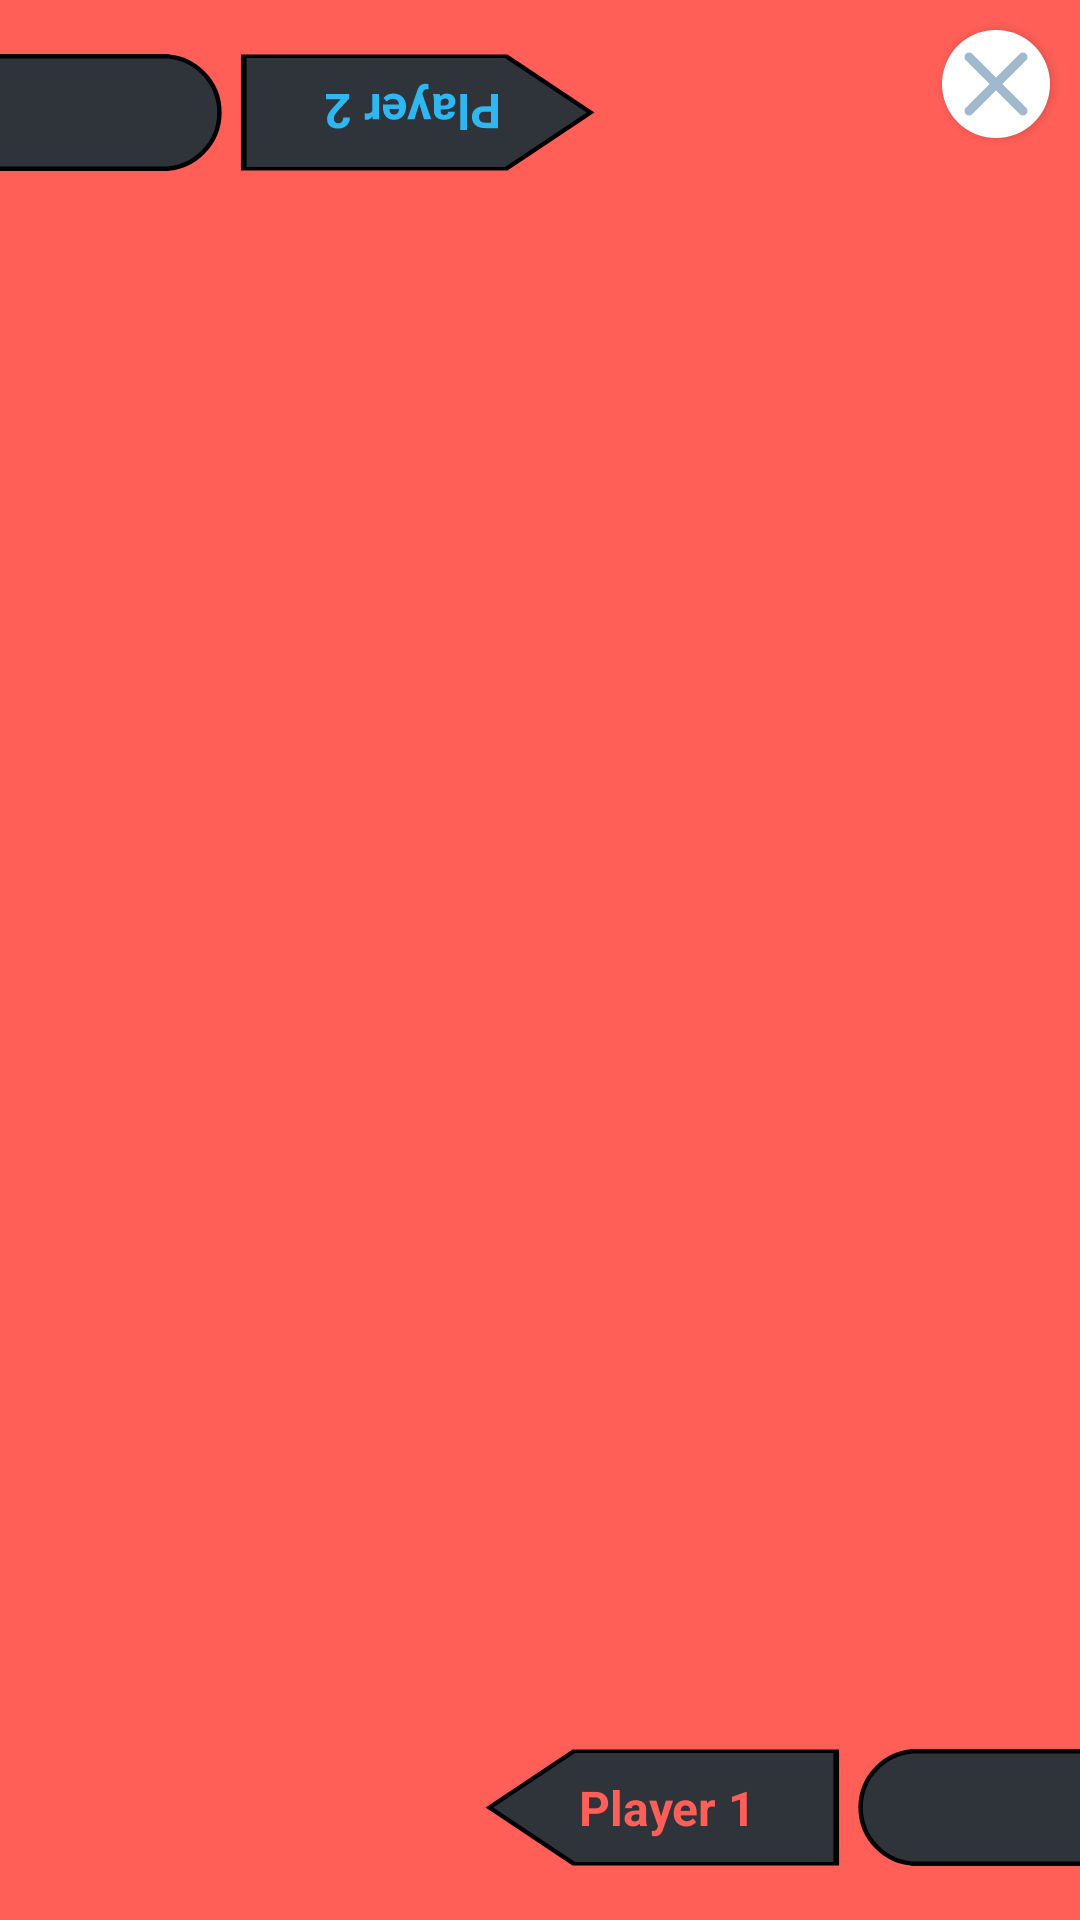

Where to tap for icons on this 1080 × 1920 app screen, as (x=x, y=y):
xback: (x=996, y=84)
